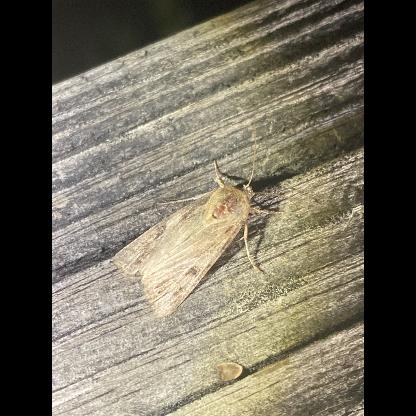Fall Armyworm Moth: (110, 135, 288, 319)
